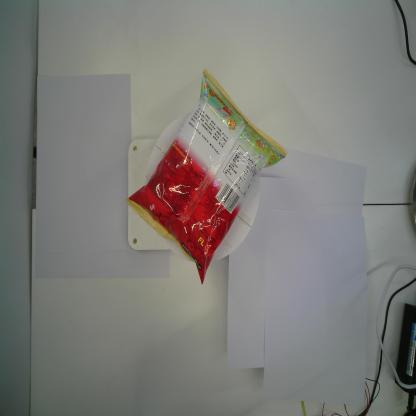Puffed Food: (124, 67, 287, 286)
